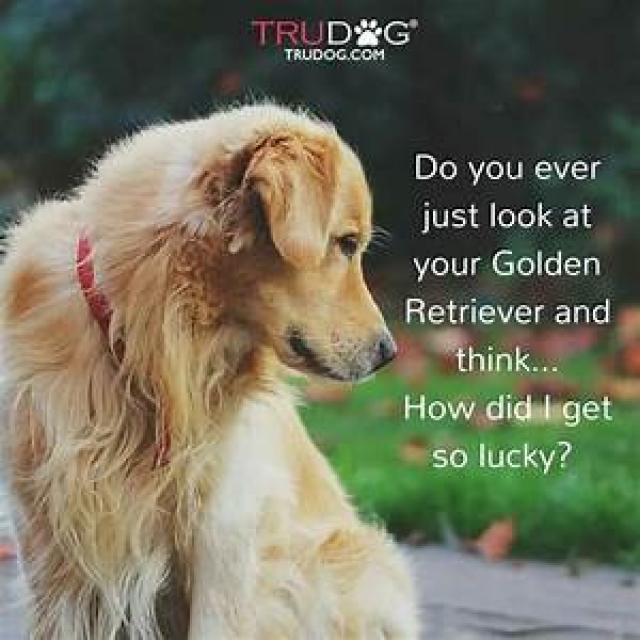dog: (0, 102, 422, 640)
